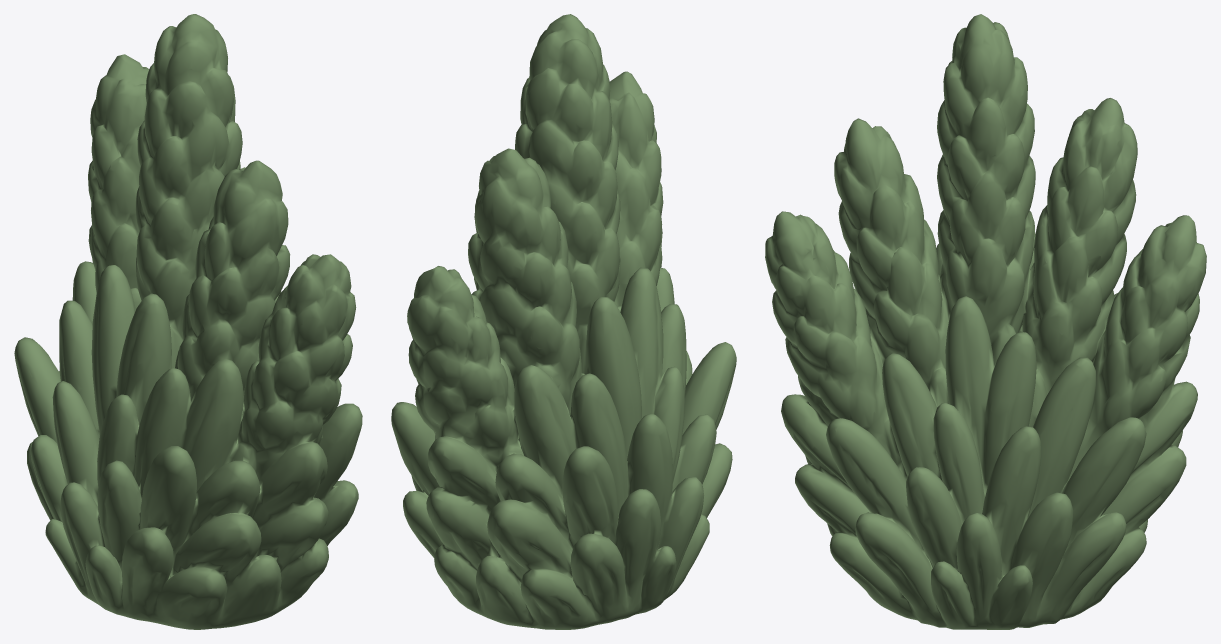
File: lavender-bundle.glb
3 views of the same model, side by side, from view 1: azimuth 30°, elevation 25°; view 2: azimuth 150°, elevation 25°; view 3: azimuth 270°, elevation 25° (orthographic).
Visible parts, largest first — view 1: tripo_printable_source; view 2: tripo_printable_source; view 3: tripo_printable_source.
Boxes of the visible parts, box(x1,y1,x2,y2) form: tripo_printable_source: box(14, 14, 362, 629); tripo_printable_source: box(391, 14, 736, 629); tripo_printable_source: box(765, 14, 1206, 629).
Size of the model in its own units: 48.4 by 100 by 70.
